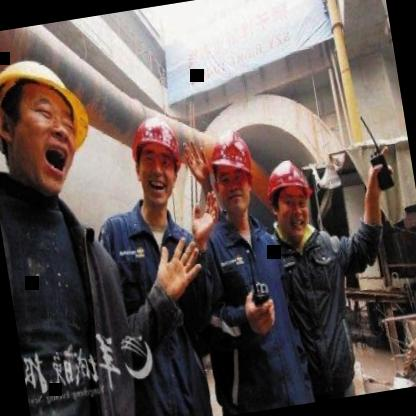helmet: (0, 35, 109, 204), (122, 108, 198, 224), (201, 127, 265, 229), (260, 156, 319, 242)
